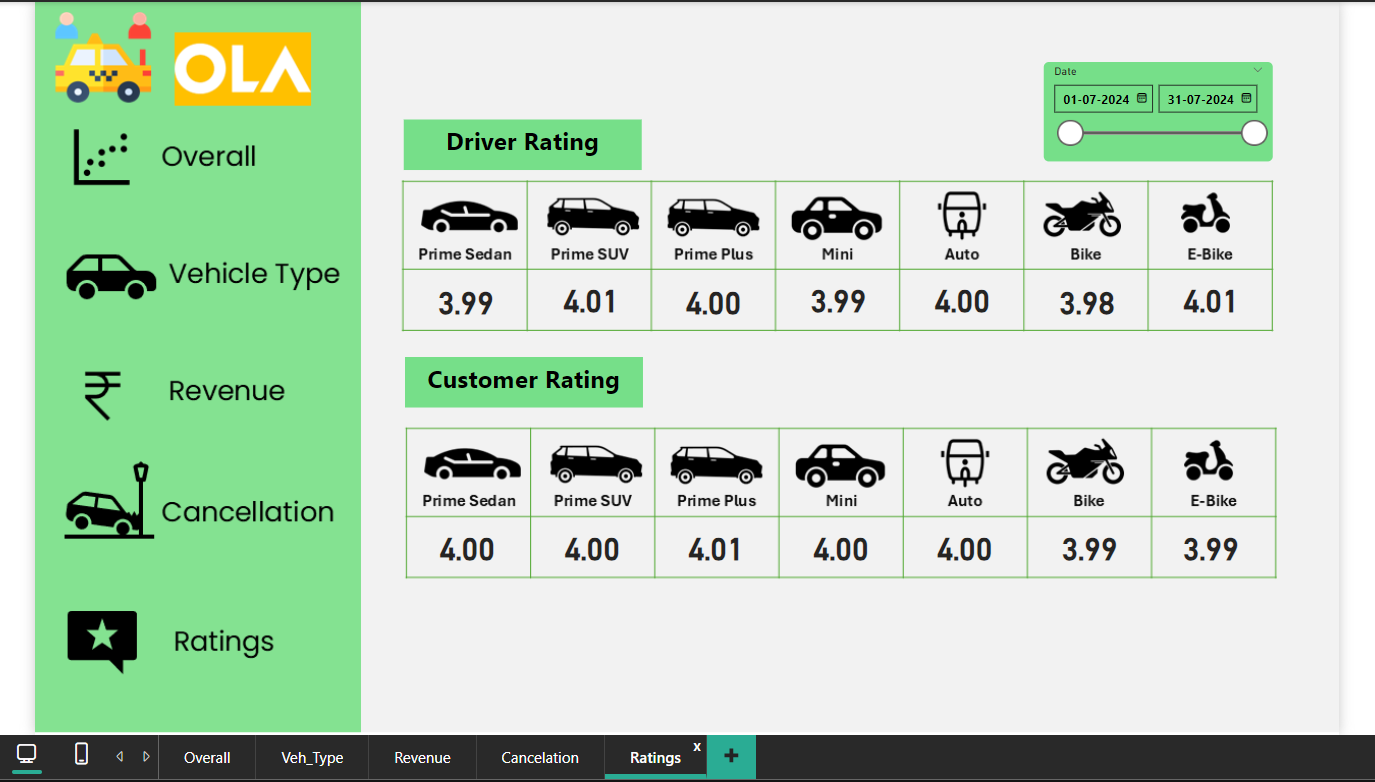

The dashboard page shown, as its layout file describes it:
{"tool":"powerbi","page":{"name":"Ratings","canvas":[1280,720],"ordinal":4},"visuals":[{"type":"actionButton","box":[0,451.5,321.5,83.4],"z":0},{"type":"actionButton","box":[0,348.5,321.5,83.4],"z":1000},{"type":"actionButton","box":[0,229.4,321.5,83.4],"z":2000},{"type":"actionButton","box":[0,115.3,321.5,83.4],"z":3000},{"type":"card","fields":{"Values":["Avg(ola_booking.Driver_Ratings)"]},"box":[362.3,263.5,122.1,59],"z":4000},{"type":"card","fields":{"Values":["Avg(ola_booking.Driver_Ratings)"]},"box":[849.4,262.1,122.1,59],"z":5000},{"type":"card","fields":{"Values":["Avg(ola_booking.Driver_Ratings)"]},"box":[971.5,263.5,122.1,59],"z":6000},{"type":"card","fields":{"Values":["Avg(ola_booking.Driver_Ratings)"]},"box":[1093.7,262.1,122.1,59],"z":7000},{"type":"card","fields":{"Values":["Avg(ola_booking.Driver_Ratings)"]},"box":[484.4,262.1,122.1,59],"z":8000},{"type":"card","fields":{"Values":["Avg(ola_booking.Driver_Ratings)"]},"box":[605.1,263.5,122.1,59],"z":9000},{"type":"card","fields":{"Values":["Avg(ola_booking.Driver_Ratings)"]},"box":[727.3,262.1,122.1,59],"z":10000},{"type":"card","fields":{"Values":["Avg(ola_booking.Customer_Rating)"]},"box":[363.6,505,122.1,59],"z":11000},{"type":"card","fields":{"Values":["Avg(ola_booking.Customer_Rating)"]},"box":[485.8,505,122.1,59],"z":12000},{"type":"card","fields":{"Values":["Avg(ola_booking.Customer_Rating)"]},"box":[607.9,505,122.1,59],"z":13000},{"type":"card","fields":{"Values":["Avg(ola_booking.Customer_Rating)"]},"box":[730,505,122.1,59],"z":14000},{"type":"card","fields":{"Values":["Avg(ola_booking.Customer_Rating)"]},"box":[852.1,505,122.1,59],"z":15000},{"type":"card","fields":{"Values":["Avg(ola_booking.Customer_Rating)"]},"box":[974.3,505,122.1,59],"z":16000},{"type":"card","fields":{"Values":["Avg(ola_booking.Customer_Rating)"]},"box":[1093.7,505,122.1,59],"z":17000},{"type":"textbox","box":[362.3,115.3,233.3,49.4],"z":18000},{"type":"textbox","box":[363.6,348.5,233.3,49.4],"z":19000},{"type":"slicer","title":"Date","fields":{"Values":["ola_booking.Date"]},"box":[990.7,59,225,97.4],"z":20000}]}

Visuals, with their boxes on the page's 1280x720 design canvas (x1, y1, x2, y2). These are canvas units, not pixel positions in the 1375x782 screenshot, which may show the page scaled, cropped or inside an application window:
actionButton: <region>0, 452, 322, 535</region>
actionButton: <region>0, 348, 322, 432</region>
actionButton: <region>0, 229, 322, 313</region>
actionButton: <region>0, 115, 322, 199</region>
card - Avg(ola_booking.Driver_Ratings): <region>362, 264, 484, 322</region>
card - Avg(ola_booking.Driver_Ratings): <region>849, 262, 972, 321</region>
card - Avg(ola_booking.Driver_Ratings): <region>972, 264, 1094, 322</region>
card - Avg(ola_booking.Driver_Ratings): <region>1094, 262, 1216, 321</region>
card - Avg(ola_booking.Driver_Ratings): <region>484, 262, 606, 321</region>
card - Avg(ola_booking.Driver_Ratings): <region>605, 264, 727, 322</region>
card - Avg(ola_booking.Driver_Ratings): <region>727, 262, 849, 321</region>
card - Avg(ola_booking.Customer_Rating): <region>364, 505, 486, 564</region>
card - Avg(ola_booking.Customer_Rating): <region>486, 505, 608, 564</region>
card - Avg(ola_booking.Customer_Rating): <region>608, 505, 730, 564</region>
card - Avg(ola_booking.Customer_Rating): <region>730, 505, 852, 564</region>
card - Avg(ola_booking.Customer_Rating): <region>852, 505, 974, 564</region>
card - Avg(ola_booking.Customer_Rating): <region>974, 505, 1096, 564</region>
card - Avg(ola_booking.Customer_Rating): <region>1094, 505, 1216, 564</region>
textbox: <region>362, 115, 596, 165</region>
textbox: <region>364, 348, 597, 398</region>
"Date" slicer: <region>991, 59, 1216, 156</region>
